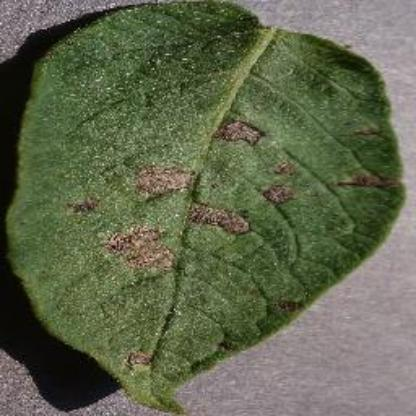Early-Blight: (7, 0, 409, 408)
